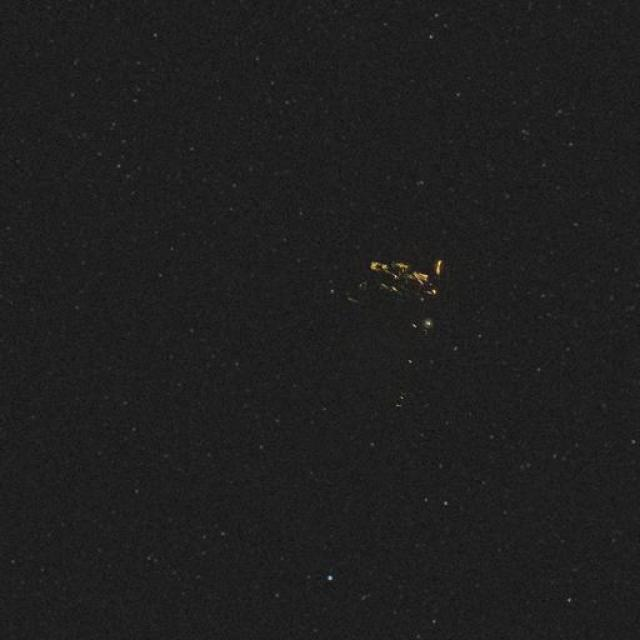lisa_pathfinder: (310, 226, 476, 399)
